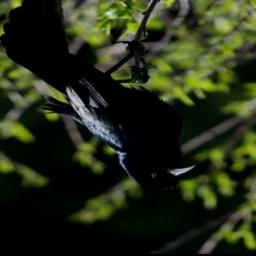Crow: (1, 0, 197, 193)
